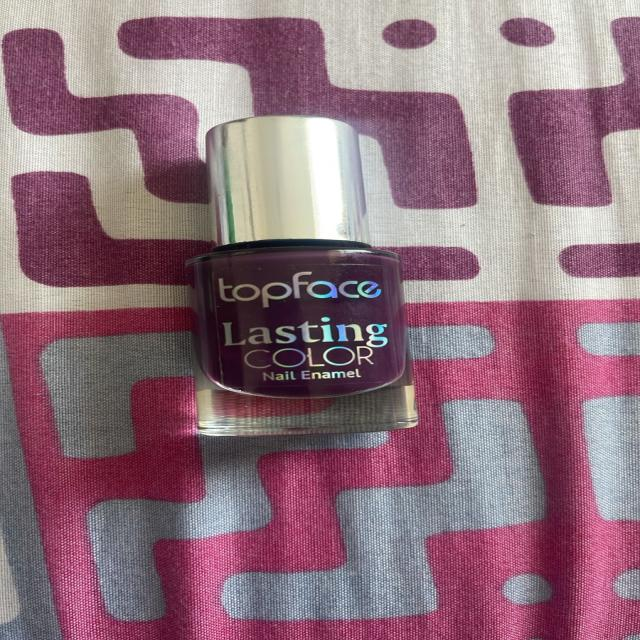nail polish: (165, 92, 451, 460)
